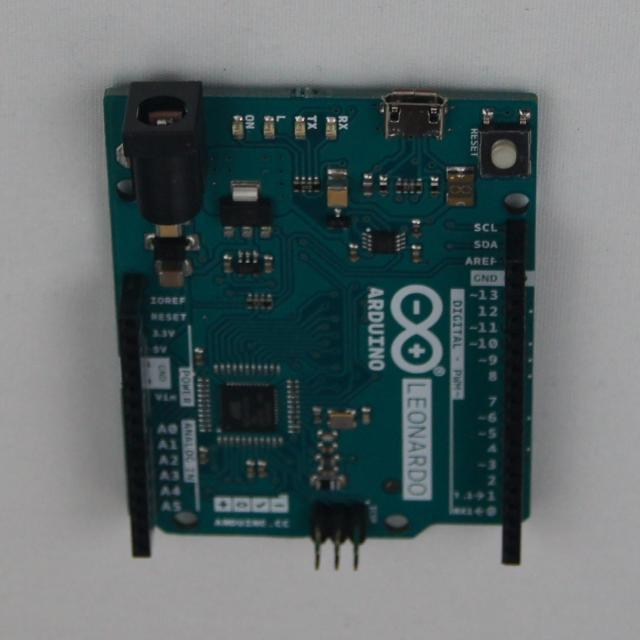Arduino-leonardo: (105, 80, 536, 567)
